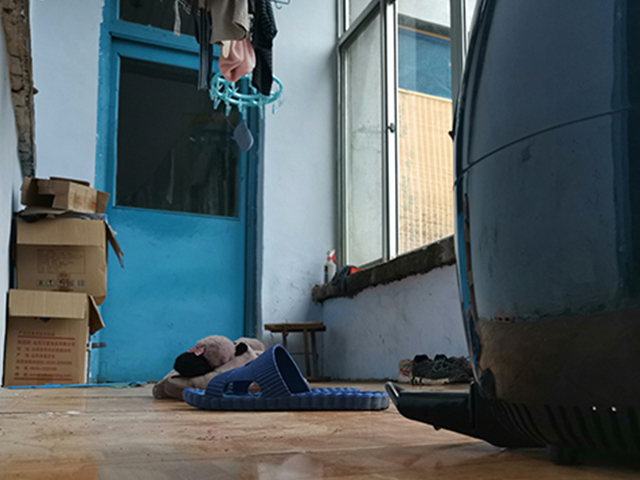slippers: (181, 345, 390, 411), (150, 334, 267, 397)
stool: (264, 320, 334, 385)
